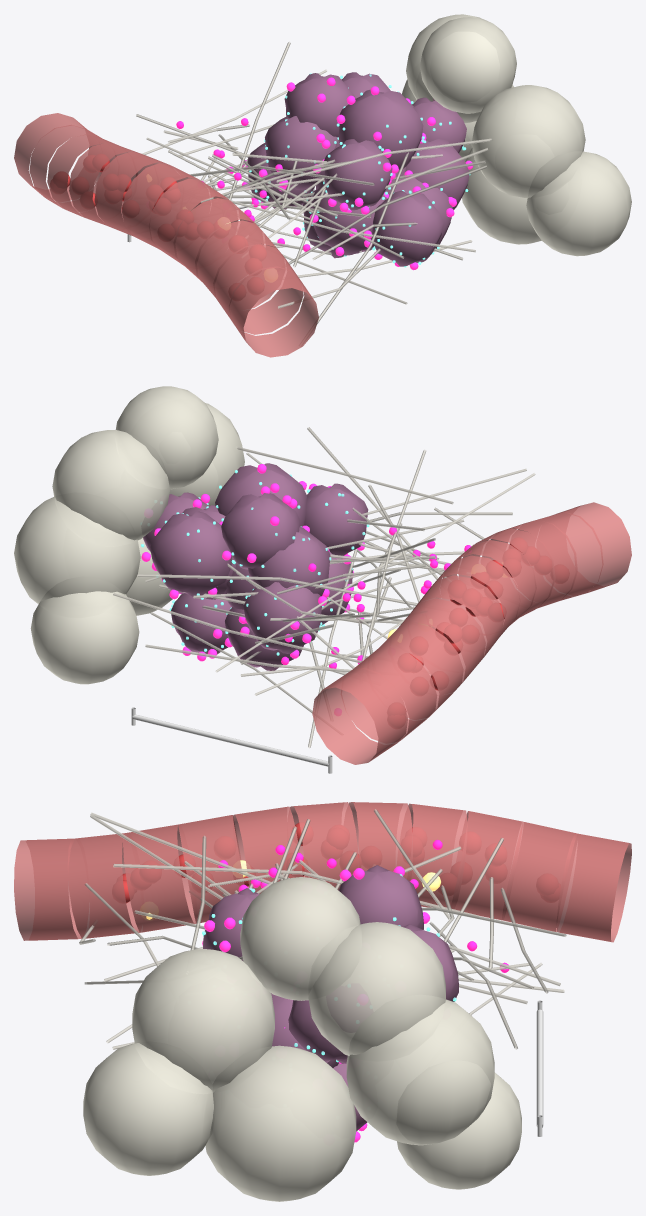
Rendered from breast_tissue_targeting.glb.
The picture shows the model from 3 angles, top to bottom: view 1: azimuth 30°, elevation 25°; view 2: azimuth 150°, elevation 25°; view 3: azimuth 270°, elevation 25°; orthographic projection. The views are drawn at different scales.
Visible parts, largest first — view 1: Normal_Breast_Adipocytes, Tumor_Capillary_Vessel, Breast_Carcinoma_Cells, Extracellular_Matrix_Fibrils, Targeted_Nanoparticles_Bound, Red_Blood_Cells, HER2_Receptor_Mantle, Extravasating_Nanoparticles; view 2: Normal_Breast_Adipocytes, Tumor_Capillary_Vessel, Breast_Carcinoma_Cells, Extracellular_Matrix_Fibrils, Targeted_Nanoparticles_Bound, Tissue_Scale_Bar_50um, Red_Blood_Cells, Extravasating_Nanoparticles, HER2_Receptor_Mantle; view 3: Normal_Breast_Adipocytes, Tumor_Capillary_Vessel, Extracellular_Matrix_Fibrils, Breast_Carcinoma_Cells, Red_Blood_Cells, Tissue_Scale_Bar_50um, Targeted_Nanoparticles_Bound, Extravasating_Nanoparticles.
Boxes of the visible parts, box(x1,y1,x2,y2) form: Normal_Breast_Adipocytes: box(402, 14, 631, 256); Tumor_Capillary_Vessel: box(14, 113, 318, 357); Breast_Carcinoma_Cells: box(247, 72, 469, 266); Extracellular_Matrix_Fibrils: box(136, 41, 491, 324); Targeted_Nanoparticles_Bound: box(242, 77, 472, 270); Red_Blood_Cells: box(50, 156, 266, 299); HER2_Receptor_Mantle: box(248, 73, 470, 267); Extravasating_Nanoparticles: box(176, 118, 310, 251); Normal_Breast_Adipocytes: box(14, 386, 244, 684); Tumor_Capillary_Vessel: box(312, 502, 631, 764); Breast_Carcinoma_Cells: box(143, 463, 368, 670); Extracellular_Matrix_Fibrils: box(113, 427, 535, 748); Targeted_Nanoparticles_Bound: box(141, 464, 366, 661); Tissue_Scale_Bar_50um: box(131, 707, 332, 773); Red_Blood_Cells: box(387, 538, 568, 727); Extravasating_Nanoparticles: box(281, 527, 470, 714); HER2_Receptor_Mantle: box(141, 470, 369, 655); Normal_Breast_Adipocytes: box(83, 877, 521, 1201); Tumor_Capillary_Vessel: box(14, 802, 631, 942); Extracellular_Matrix_Fibrils: box(79, 809, 566, 1049); Breast_Carcinoma_Cells: box(203, 865, 458, 1131); Red_Blood_Cells: box(117, 822, 558, 903); Tissue_Scale_Bar_50um: box(536, 1000, 543, 1136); Targeted_Nanoparticles_Bound: box(202, 866, 429, 1142); Extravasating_Nanoparticles: box(218, 839, 509, 972).
Size of the model in its own units: 119 by 59.5 by 114.
